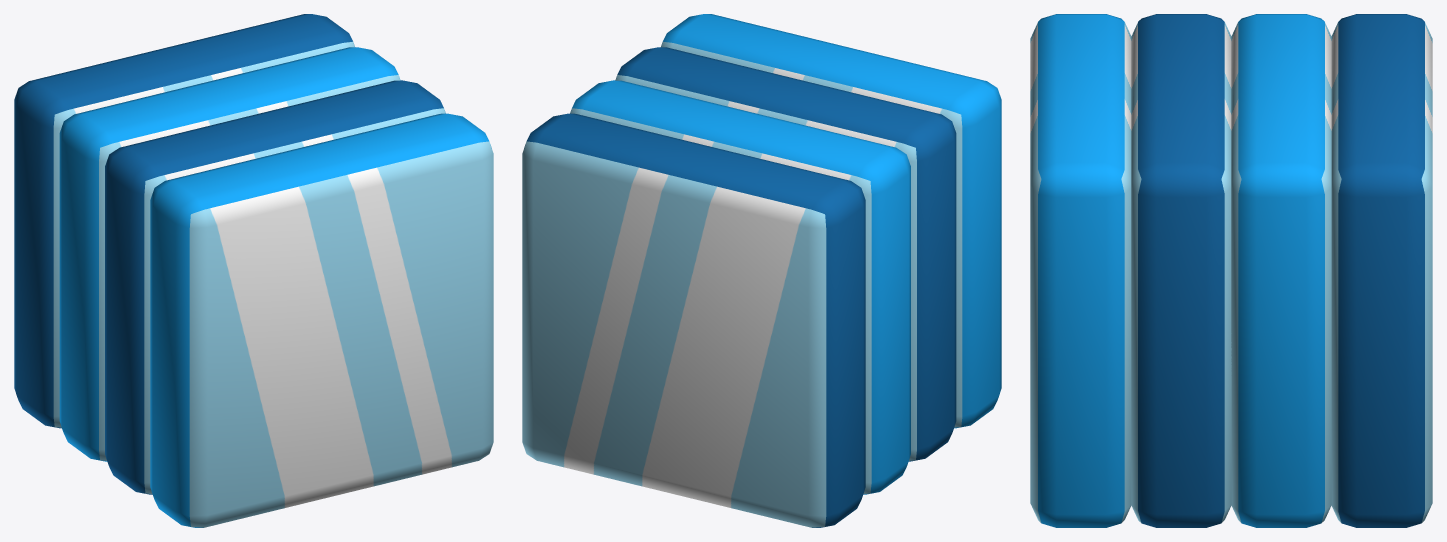
Rendered from Glass_Bar_L1.fbx.
The picture shows the model from 3 angles, left to right: view 1: azimuth 30°, elevation 25°; view 2: azimuth 150°, elevation 25°; view 3: azimuth 270°, elevation 25°; orthographic projection. The views are drawn at different scales.
Parts seen in each view (by area): view 1: Glass Bar; view 2: Glass Bar; view 3: Glass Bar.
Part boxes in pixels (left/top/right/bottom): Glass Bar: left=14, top=14, right=493, bottom=527; Glass Bar: left=522, top=14, right=1001, bottom=527; Glass Bar: left=1030, top=14, right=1432, bottom=527.
Size of the model in its own units: 80.38 by 80.38 by 80.38.
